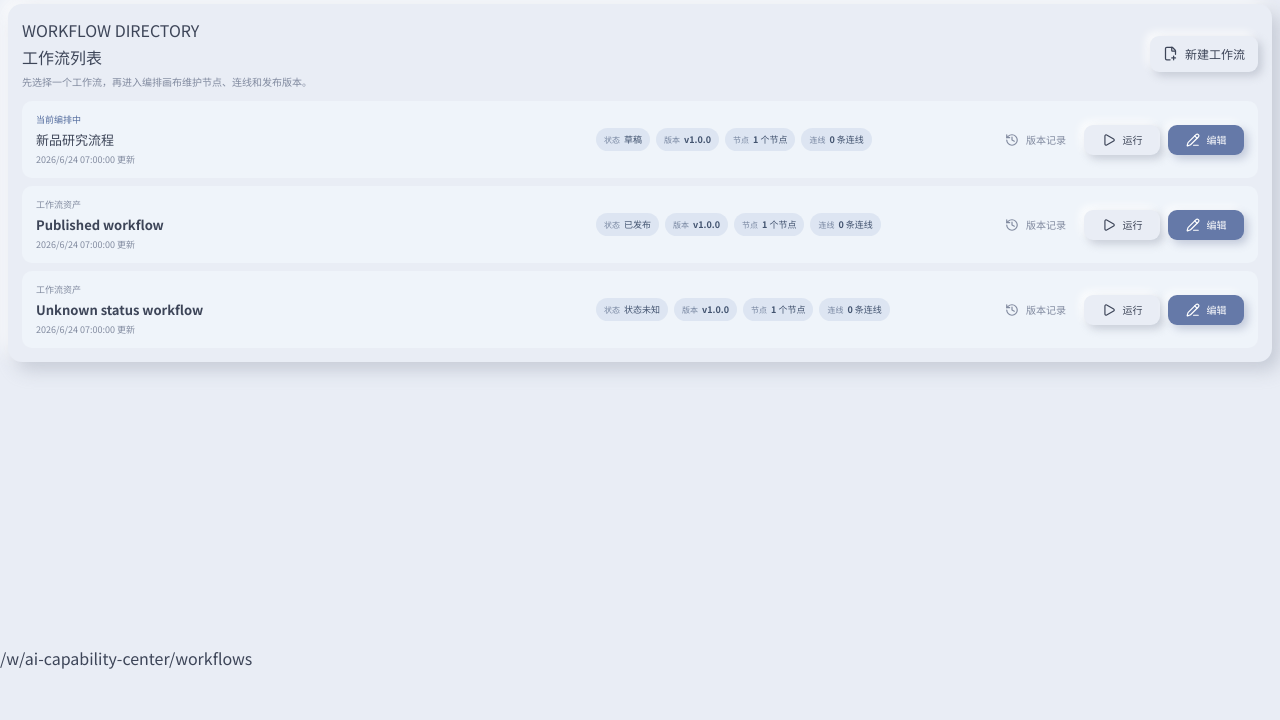
Scenario: Workflows › labels workflow list metadata and opens version history from the list
The width and height of the screenshot is (1280, 720).
Check: the text "状态" next to "草稿" is shown, box [604,134,620,145]
Check: the text "版本" next to "草稿" is shown, box [664,134,680,145]
Step 1. Click the button with aria-label "查看版本记录 新品研究流程" → (1036, 140), box [995,124,1076,154]
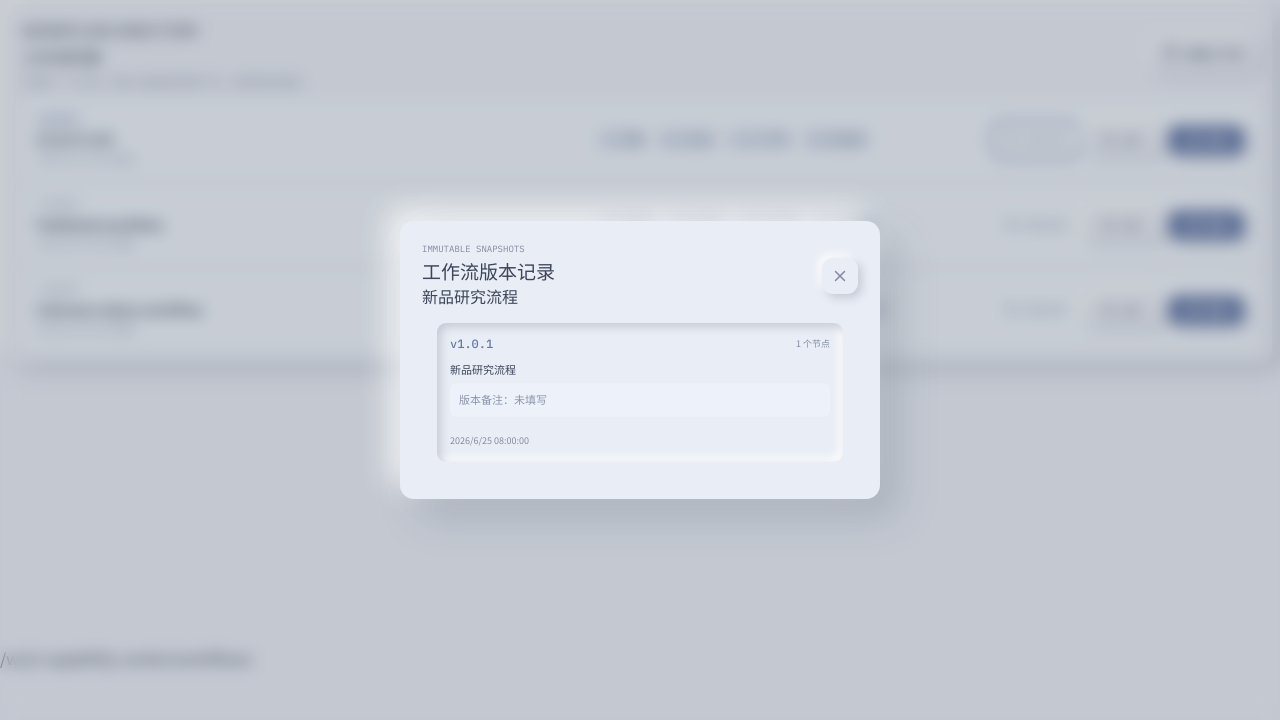
Check: the text "新品研究流程" below "工作流版本记录" is shown, box [422,284,518,308]
Check: the text "v1.0.1" is shown, box [450,336,493,352]
